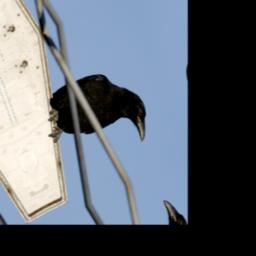Crow: (35, 51, 156, 183)
